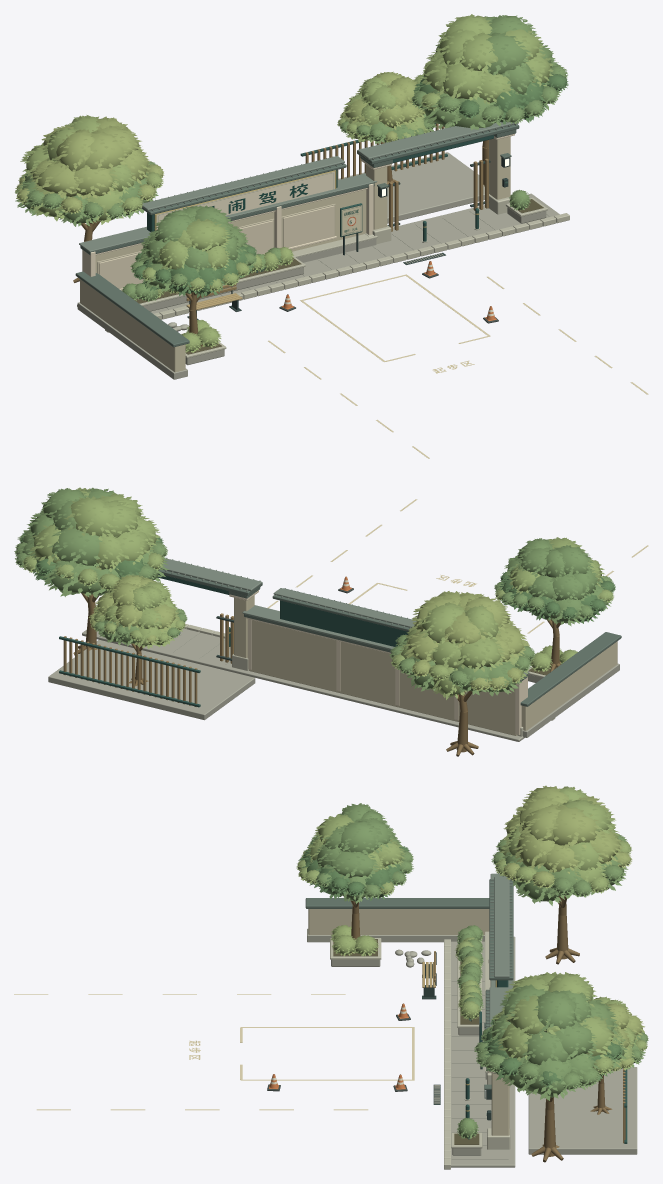
The model's file is SchoolCorner.glb.
3 views of the same model, one above another, from view 1: azimuth 30°, elevation 25°; view 2: azimuth 150°, elevation 25°; view 3: azimuth 270°, elevation 25° (orthographic). The views are drawn at different scales.
Parts seen in each view (by area): view 1: Sidewalk, _MeshInstance3D_197, _MeshInstance3D_224, _MeshInstance3D_111, WarmPlasterWall, _MeshInstance3D_225, _MeshInstance3D_113, _MeshInstance3D_87, _MeshInstance3D_98, _MeshInstance3D_154, _MeshInstance3D_475, _MeshInstance3D_482 (+25 smaller); view 2: WarmPlasterWall, _MeshInstance3D_197, Sidewalk, MonumentSignSurround, _MeshInstance3D_224, _MeshInstance3D_225, _MeshInstance3D_478, _MeshInstance3D_485, _MeshInstance3D_113, _MeshInstance3D_415, _MeshInstance3D_154, _MeshInstance3D_424 (+40 smaller); view 3: _MeshInstance3D_197, Sidewalk, _MeshInstance3D_224, _MeshInstance3D_225, _MeshInstance3D_113, _MeshInstance3D_425, _MeshInstance3D_487, _MeshInstance3D_461, _MeshInstance3D_481, _MeshInstance3D_614, _MeshInstance3D_608, _MeshInstance3D_148 (+18 smaller).
Boxes of the visible parts, x1,y1,x2,y2 form: Sidewalk: [77, 193, 559, 313]; _MeshInstance3D_197: [338, 152, 484, 223]; _MeshInstance3D_224: [80, 279, 185, 372]; _MeshInstance3D_111: [156, 171, 334, 229]; WarmPlasterWall: [95, 189, 366, 290]; _MeshInstance3D_225: [75, 271, 189, 347]; _MeshInstance3D_113: [142, 156, 344, 210]; _MeshInstance3D_87: [79, 173, 377, 252]; _MeshInstance3D_98: [283, 205, 334, 247]; _MeshInstance3D_154: [357, 122, 518, 159]; _MeshInstance3D_475: [436, 62, 487, 100]; _MeshInstance3D_482: [484, 32, 530, 76]; WarmPlasterWall: [249, 620, 517, 735]; _MeshInstance3D_197: [48, 639, 255, 720]; Sidewalk: [82, 628, 524, 741]; MonumentSignSurround: [280, 600, 408, 646]; _MeshInstance3D_224: [521, 641, 617, 730]; _MeshInstance3D_225: [520, 632, 621, 706]; _MeshInstance3D_478: [46, 526, 104, 567]; _MeshInstance3D_485: [64, 496, 117, 540]; _MeshInstance3D_113: [273, 588, 416, 627]; _MeshInstance3D_415: [454, 636, 504, 672]; _MeshInstance3D_154: [160, 558, 261, 591]; _MeshInstance3D_424: [418, 602, 465, 643]; _MeshInstance3D_197: [528, 1067, 637, 1154]; Sidewalk: [451, 936, 515, 1167]; _MeshInstance3D_224: [308, 909, 489, 934]; _MeshInstance3D_225: [305, 898, 489, 908]; _MeshInstance3D_113: [494, 877, 509, 977]; _MeshInstance3D_425: [546, 804, 602, 848]; _MeshInstance3D_487: [533, 990, 582, 1035]; _MeshInstance3D_461: [520, 1060, 577, 1100]; _MeshInstance3D_481: [522, 1031, 570, 1067]; _MeshInstance3D_614: [336, 820, 383, 854]; _MeshInstance3D_608: [323, 851, 379, 881]; _MeshInstance3D_148: [491, 1073, 509, 1135].
Size of what is drawn, in the model's own units: 23.97 by 7.26 by 23.94.
Materials: 28 (3 with a texture image).
